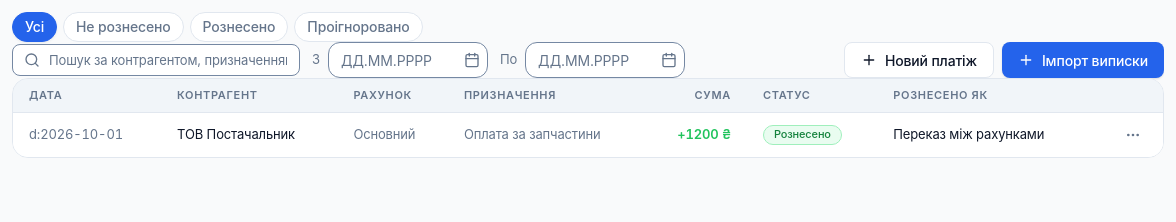
Test: BankTransactionsTab — дії рядка за напрямом і статусом › MATCHED вхідний із TRANSFER (reconcile) теж можна зняти
Click the button named "Дії рядка": (1133, 134) [1119,120,1147,148]
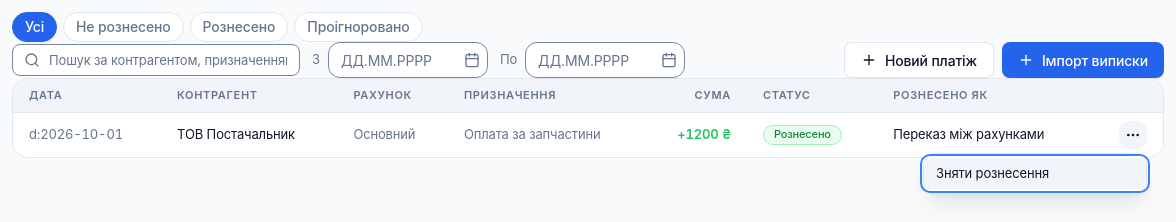
Result: the menu item "Зняти рознесення" is shown at [924,158,1146,189]
